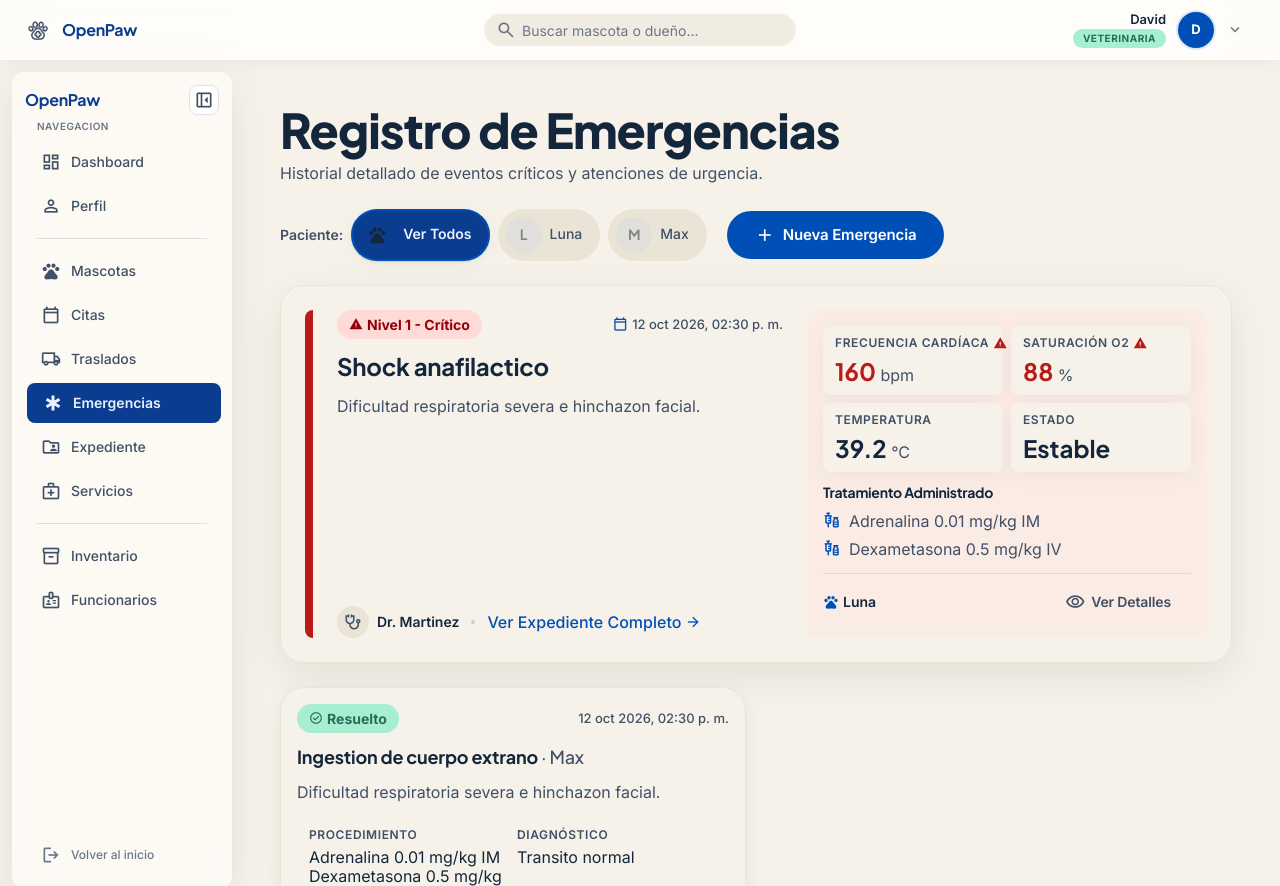
Scenario: EmergenciasPage - rediseno con severidad y signos vitales (T30) › clic en una pildora filtra por esa mascota
The image size is (1280, 886).
Check: the heading "Ingestion de cuerpo extrano · Max" is shown, box [297,745,584,768]
Click the radio button labelled "Luna": x=549, y=235 [498,209,600,261]
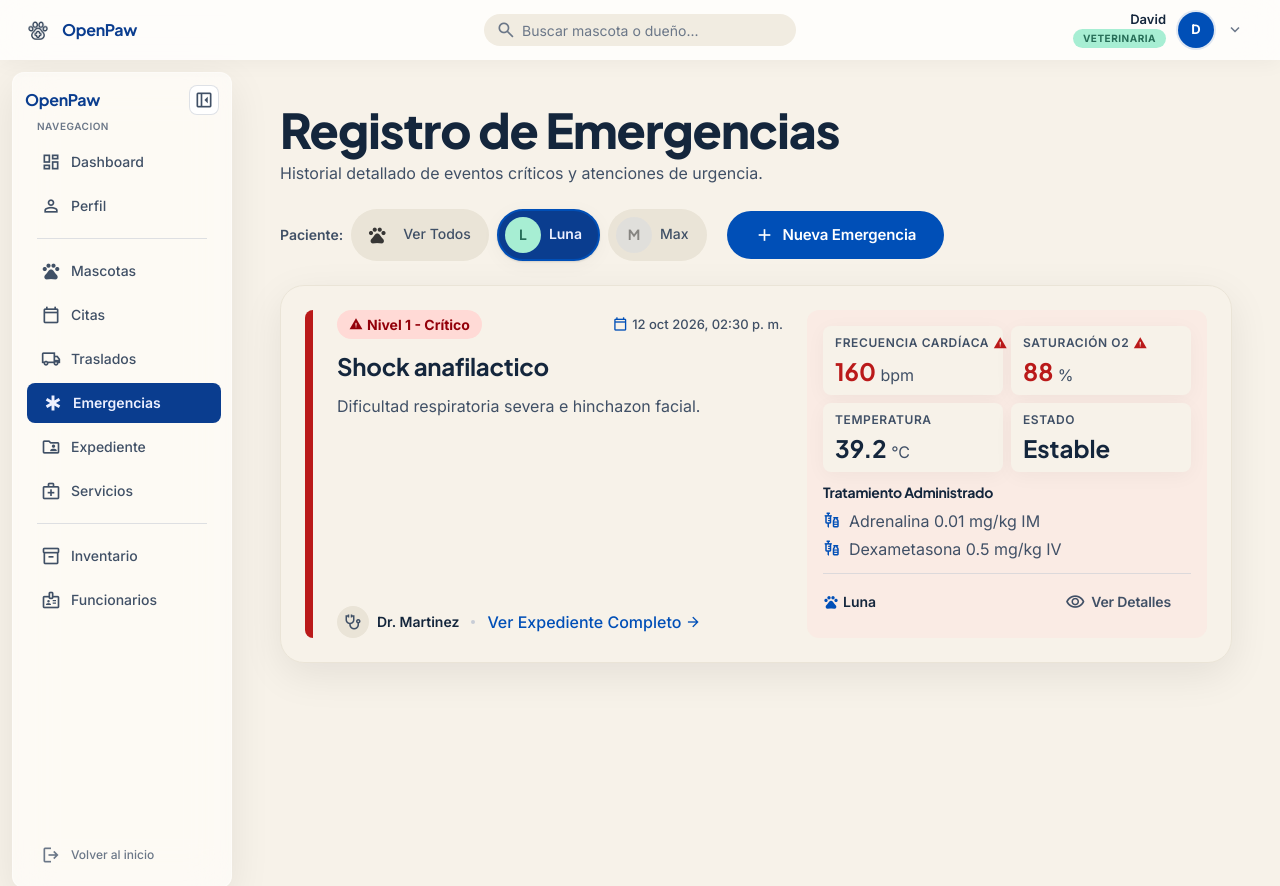
Check: the heading "Shock anafilactico" is shown, box [337,351,549,381]
Check: the heading "Ingestion de cuerpo extrano" is gone
